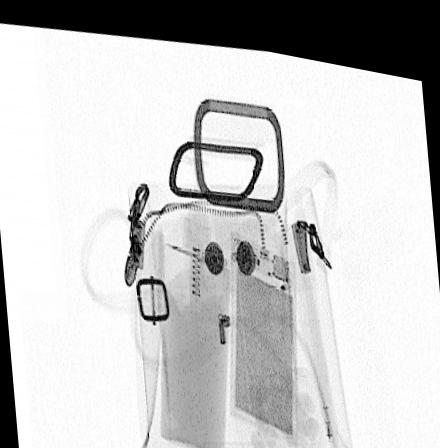Powerbank: (230, 218, 297, 431)
